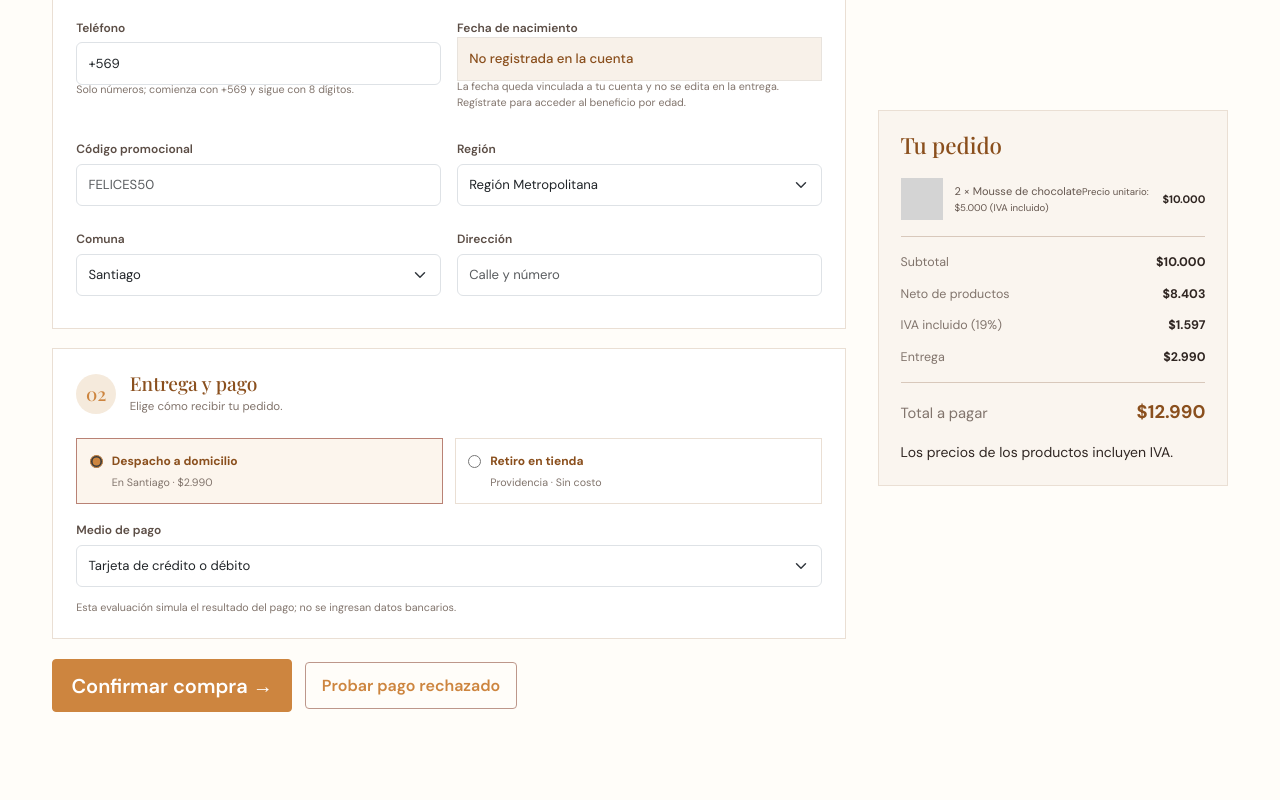
formulario de compra › muestra entrega gratis cuando se selecciona retiro en tienda
This screenshot has width=1280, height=800.
(page scrolled)
Click the radio button named "delivery" at (475, 461), box left=468, top=455, right=481, bottom=468
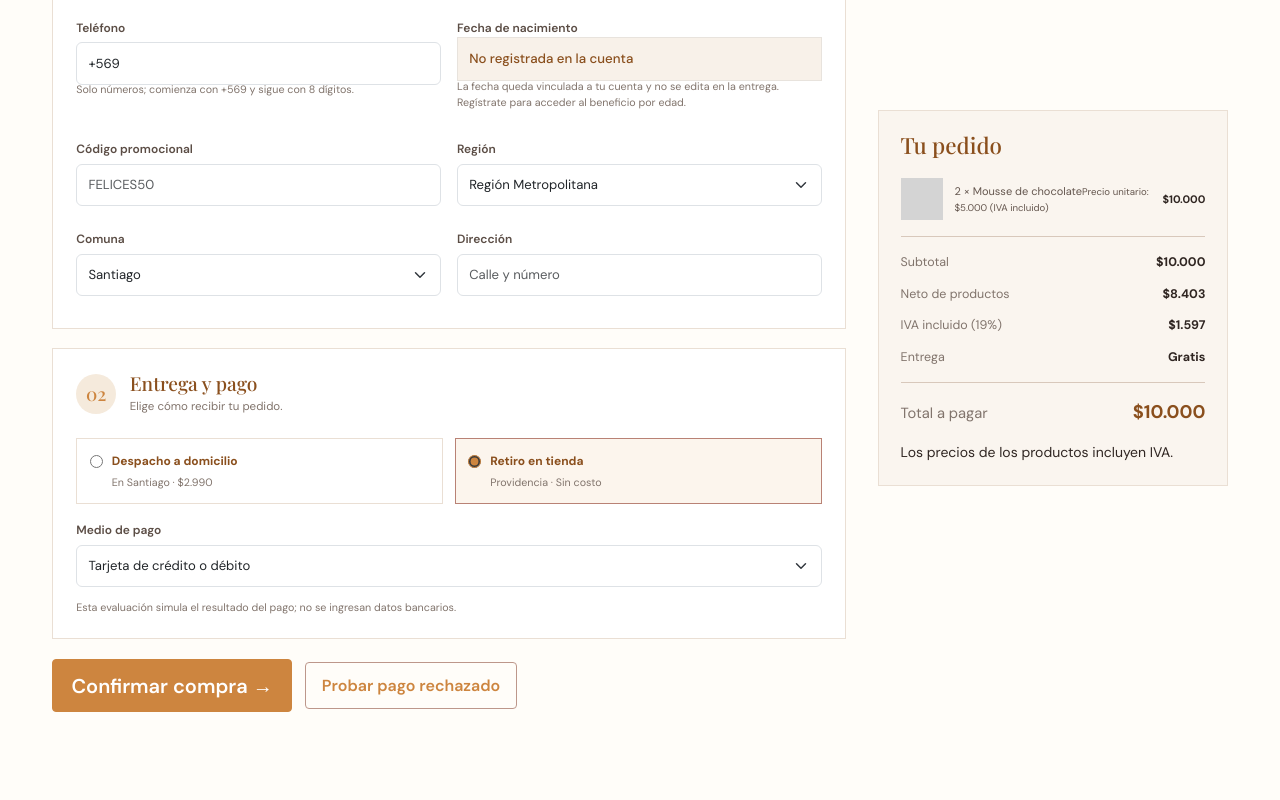
Result: the text "Gratis" is shown at left=1168, top=348, right=1205, bottom=367
